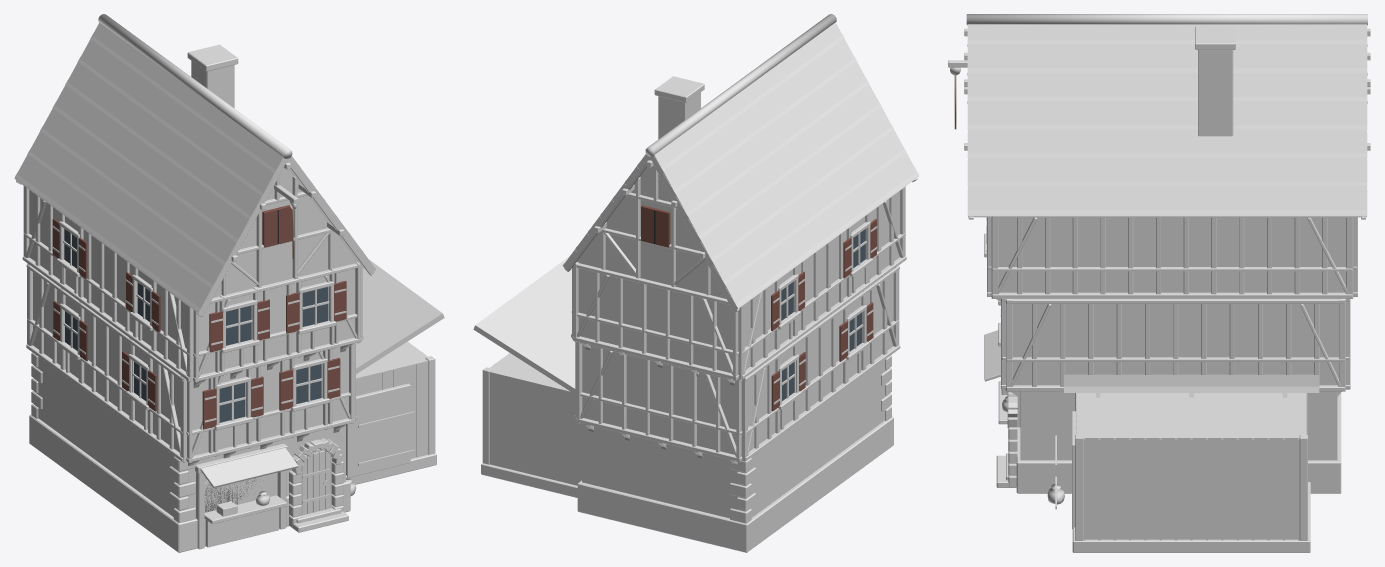
Rendered from ville_18_echoppe_remise_bois.fbx.
3 views of the same model, side by side, from view 1: azimuth 30°, elevation 25°; view 2: azimuth 150°, elevation 25°; view 3: azimuth 270°, elevation 25° (orthographic). The views are drawn at different scales.
Visible parts, largest first — view 1: ville_18_echoppe_remise_bois_LOD0; view 2: ville_18_echoppe_remise_bois_LOD0; view 3: ville_18_echoppe_remise_bois_LOD0.
Boxes of the visible parts, box(x1,y1,x2,y2) form: ville_18_echoppe_remise_bois_LOD0: box(14, 14, 444, 552); ville_18_echoppe_remise_bois_LOD0: box(473, 14, 919, 552); ville_18_echoppe_remise_bois_LOD0: box(948, 14, 1370, 552).
Size of what is drawn, in the model's own units: 8.74 by 11.49 by 10.12.
